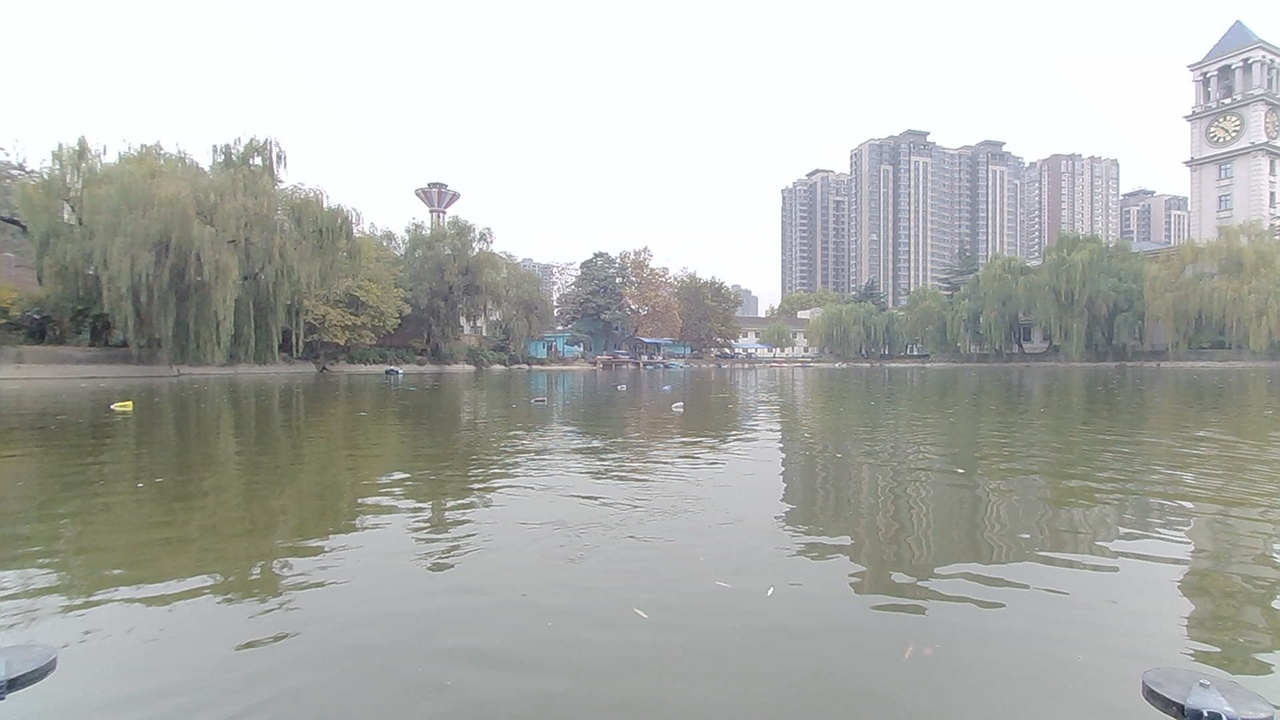bottle: (105, 395, 147, 419), (530, 384, 560, 406), (660, 392, 690, 413), (658, 371, 691, 388), (610, 374, 632, 393)
